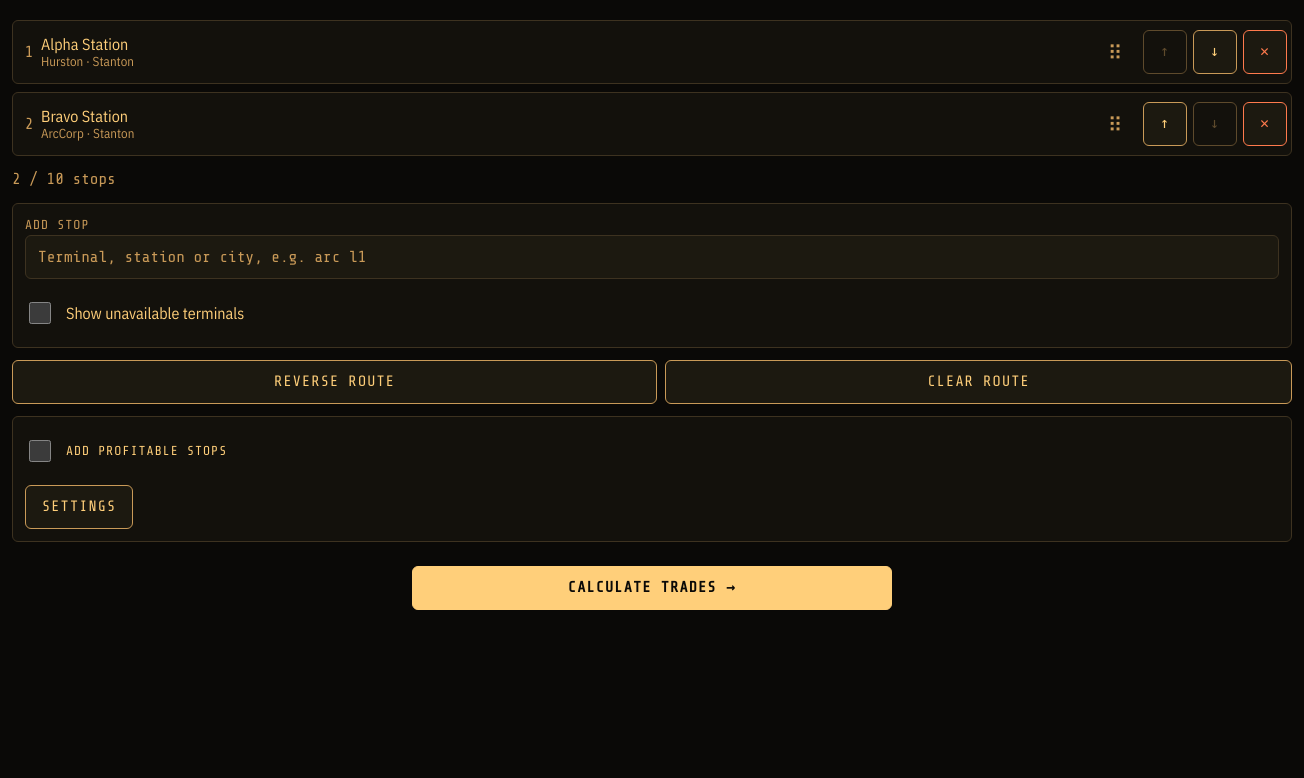
Test case: add profitable stops panel › is off and collapsed by default, with the documented defaults behind the settings
The width and height of the screenshot is (1304, 778).
Expected: the checkbox labelled "Add profitable stops" is not checked, [29,440,51,462]
Expected: the field labelled "Stops per gap" is not shown
Click the button "Settings" at x=79, y=507, box [25,485,133,529]
(page scrolled)
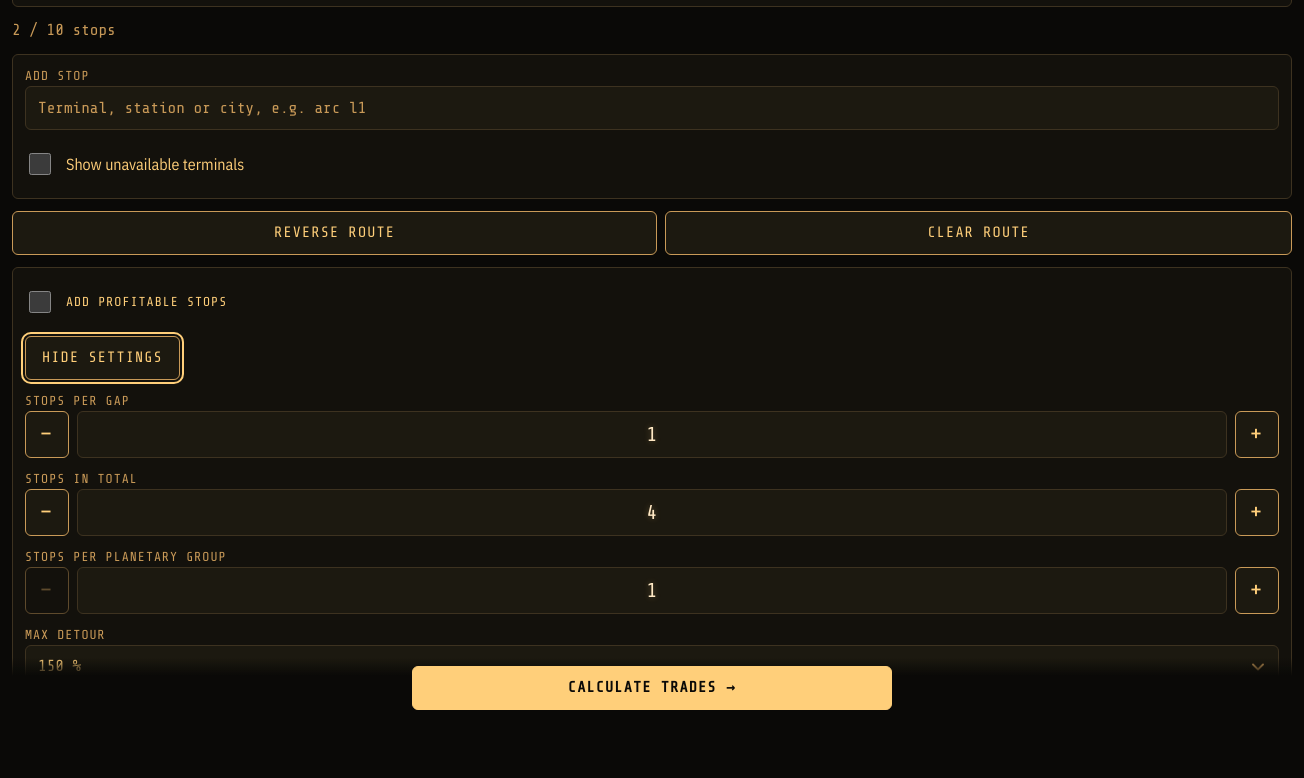
Now the field labelled "Stops per gap" holds "1", box [77,411,1227,458]
Now the field labelled "Stops in total" holds "4", box [77,489,1227,536]
Now the field labelled "Stops per planetary group" holds "1", box [77,567,1227,614]
